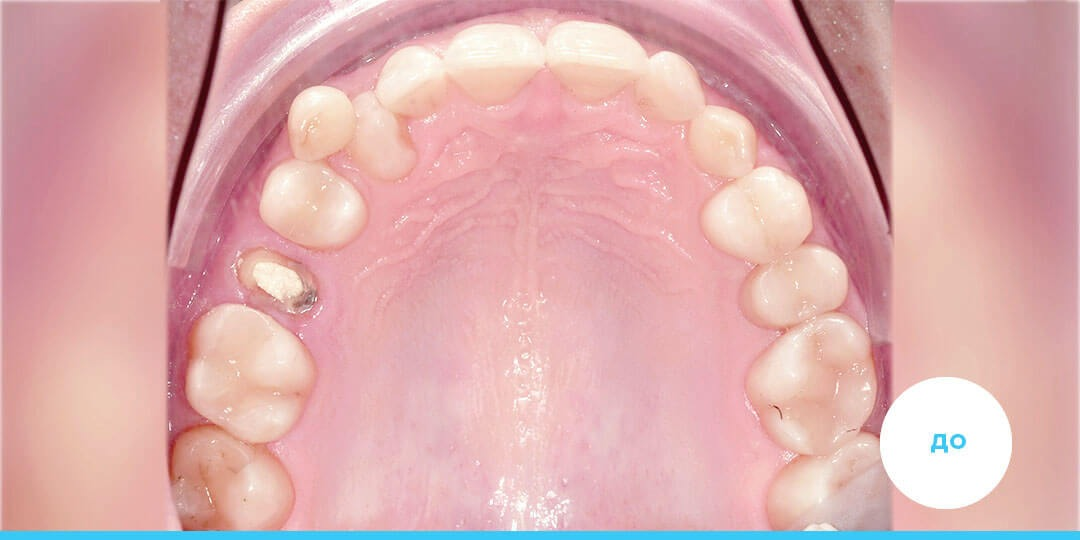UL1BC_healthy: (709, 168, 812, 261)
UL1M_healthy: (755, 322, 876, 440)
UL2BC_healthy: (744, 255, 847, 320)
UL2M_healthy: (776, 445, 880, 526)
ULCI_healthy: (544, 21, 648, 99)
ULC_healthy: (689, 108, 758, 177)
ULLI_healthy: (647, 50, 705, 121)
UR1BC_healthy: (290, 86, 354, 163)
UR1M_decay: (229, 242, 325, 328)
UR2BC_healthy: (262, 165, 365, 255)
UR2M_healthy: (201, 312, 308, 438)
UR3M_healthy: (186, 430, 290, 532)
URCI_healthy: (446, 25, 543, 102)
URC_healthy: (352, 91, 415, 175)
URLI_healthy: (389, 50, 448, 113)
